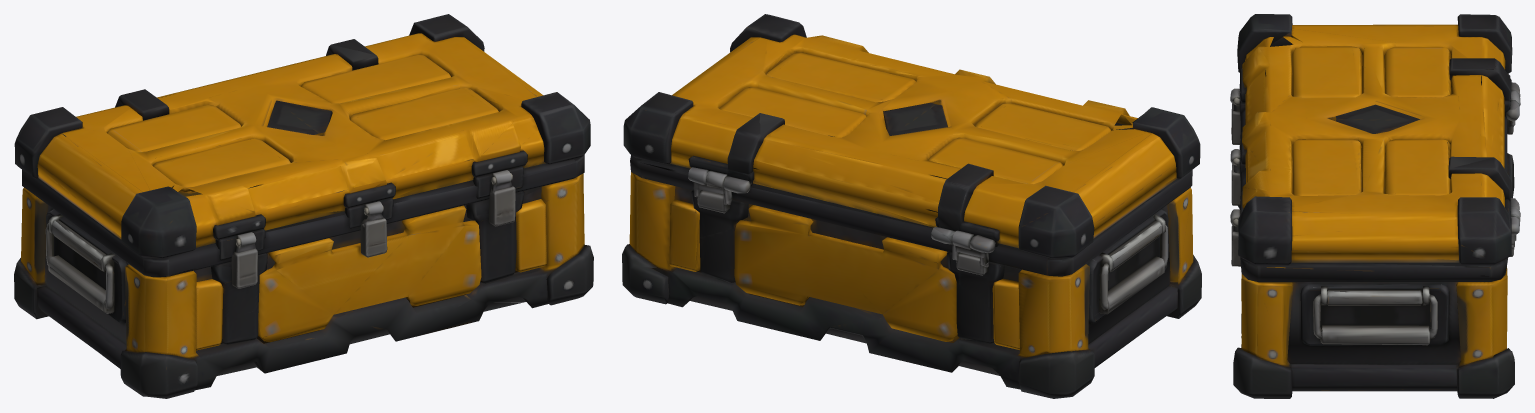
The model's file is tier-5-heavy.glb.
The picture shows the model from 3 angles, left to right: view 1: azimuth 30°, elevation 25°; view 2: azimuth 150°, elevation 25°; view 3: azimuth 270°, elevation 25°; orthographic projection. The views are drawn at different scales.
Parts seen in each view (by area): view 1: geometry_0; view 2: geometry_0; view 3: geometry_0.
Part boxes in pixels (x1,y1,x2,y2): geometry_0: [14, 14, 593, 398]; geometry_0: [622, 14, 1201, 398]; geometry_0: [1230, 14, 1520, 398].
Size of the model in its own units: 1 by 0.3968 by 0.5754.
Materials: 1 (1 with a texture image).
